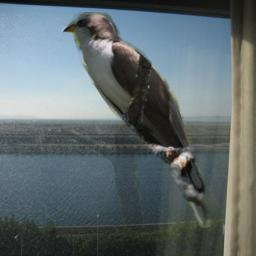Cuckoo: (61, 12, 225, 228)
